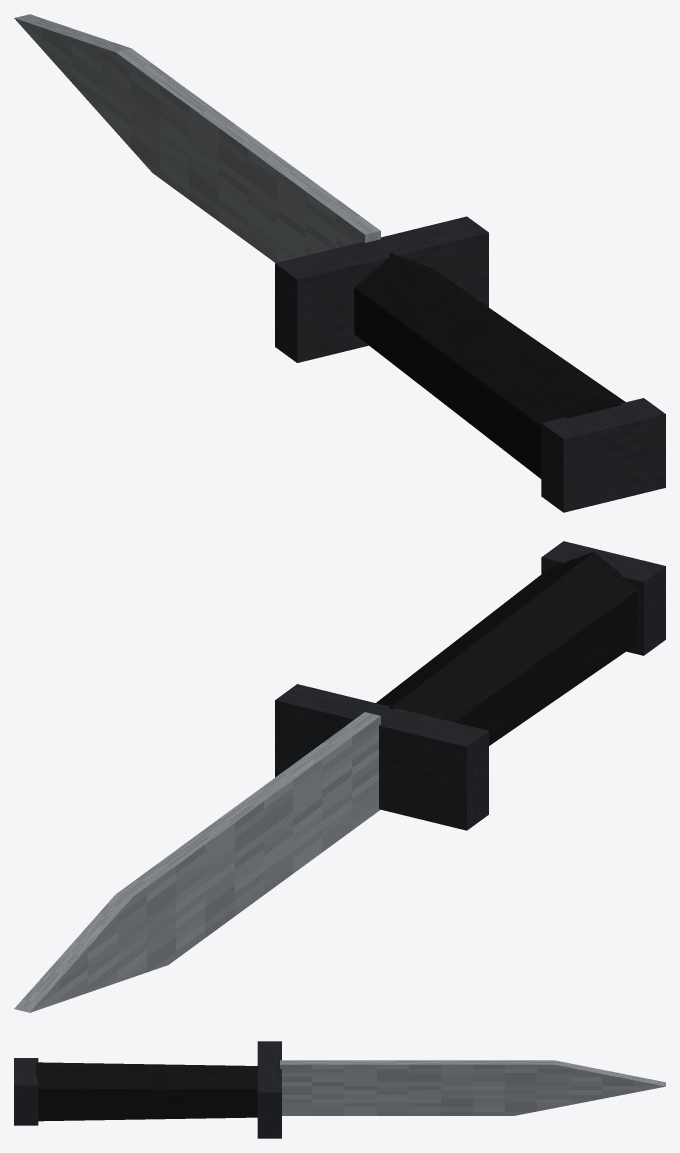
Rendered from weapon_knife.glb.
3 views of the same model, one above another, from view 1: azimuth 30°, elevation 25°; view 2: azimuth 150°, elevation 25°; view 3: azimuth 270°, elevation 25° (orthographic). The views are drawn at different scales.
Visible parts, largest first — view 1: weapon_knife; view 2: weapon_knife; view 3: weapon_knife.
Boxes of the visible parts, bbox=[...] form: weapon_knife: bbox=[14, 14, 665, 512]; weapon_knife: bbox=[14, 541, 665, 1012]; weapon_knife: bbox=[14, 1041, 665, 1138].
Bounding box in the file's own units: 0.06 × 0.032 × 0.321.
1 material, 1 textured.
